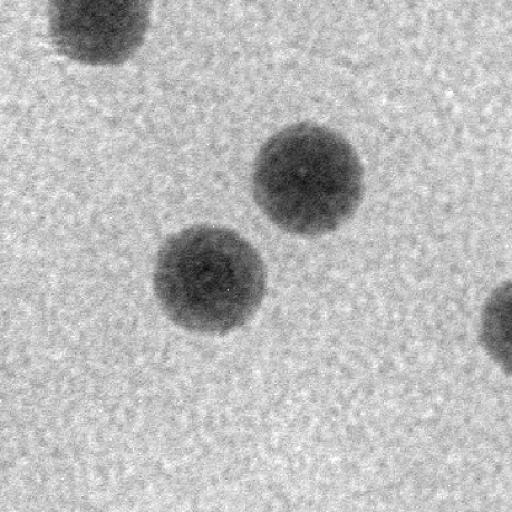Nanoparticles: (146, 220, 274, 336), (248, 122, 372, 240), (43, 0, 159, 70), (477, 273, 512, 379)
